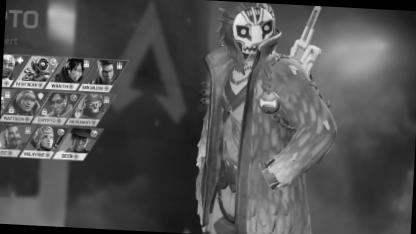Target: (198, 3, 307, 233)
